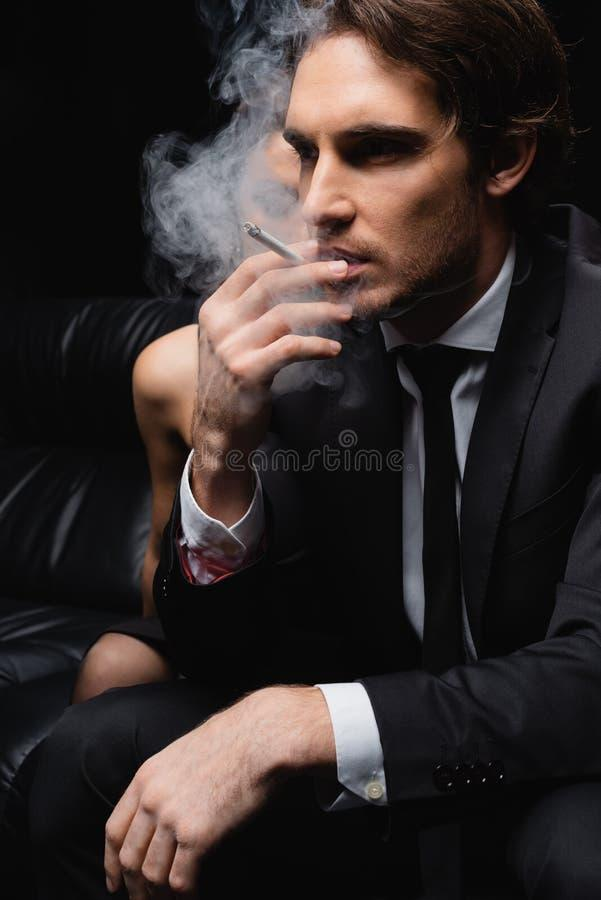cigarette: (242, 221, 306, 264)
